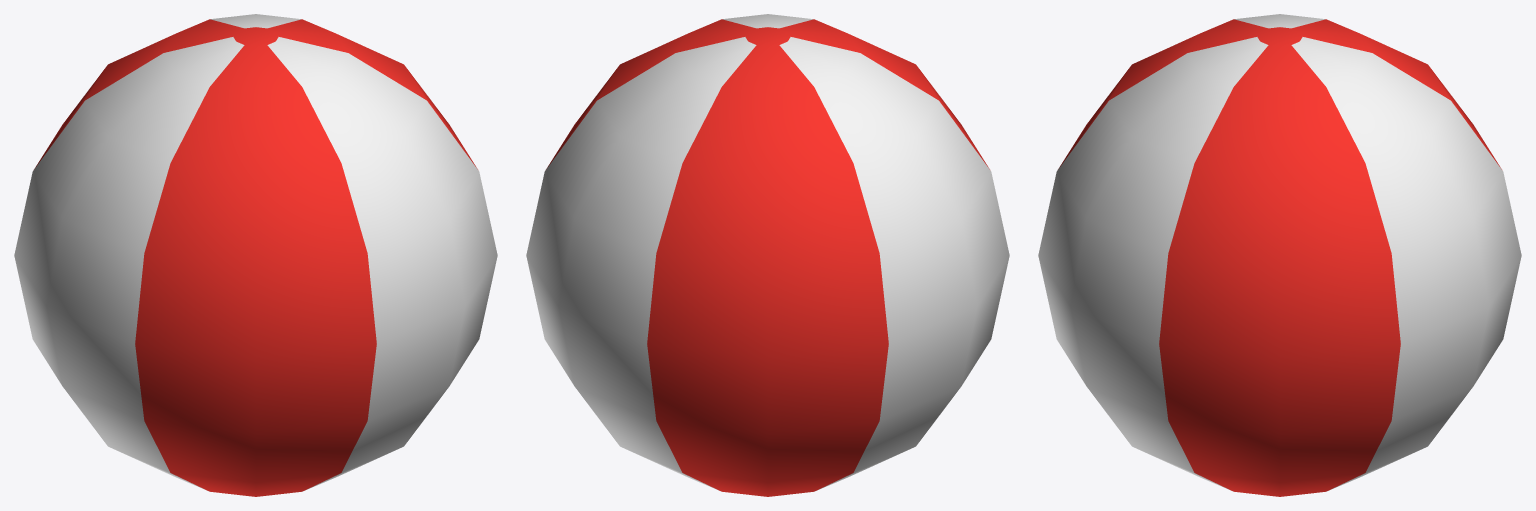
File: BeachBall.fbx
3 views of the same model, side by side, from view 1: azimuth 30°, elevation 25°; view 2: azimuth 150°, elevation 25°; view 3: azimuth 270°, elevation 25° (orthographic).
Parts seen in each view (by area): view 1: BeachBall; view 2: BeachBall; view 3: BeachBall.
Part boxes in pixels (x1,y1,x2,y2): BeachBall: (14, 14, 497, 496); BeachBall: (526, 14, 1009, 496); BeachBall: (1038, 14, 1521, 496).
Bounding box in the file's own units: 40.54 × 40.55 × 40.54.
